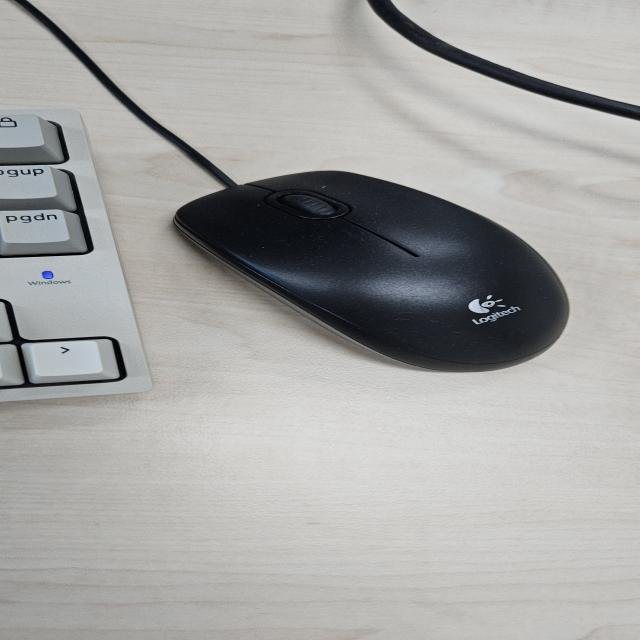Keyboard: (0, 108, 154, 402)
Mouse: (170, 168, 572, 374)
